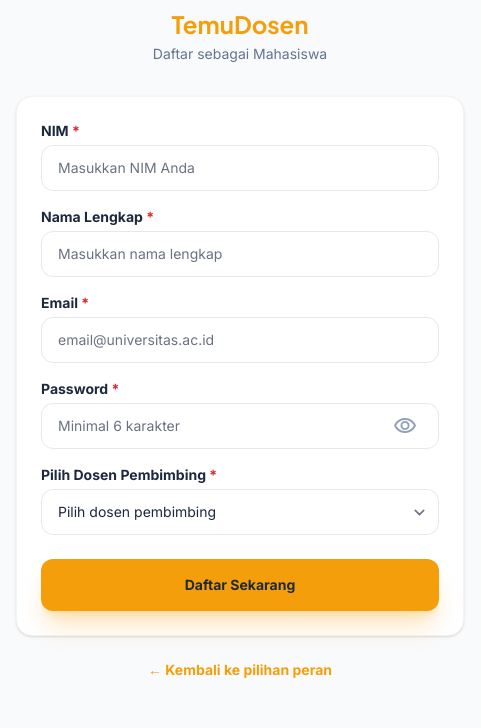
Test case: RegisterStudentPage › shows required-field error when submitting without filling NIM
This screenshot has width=481, height=728.
// Submit without filling any field
Click the button "Daftar Sekarang". click: (240, 585)
box: left=41, top=559, right=439, bottom=611
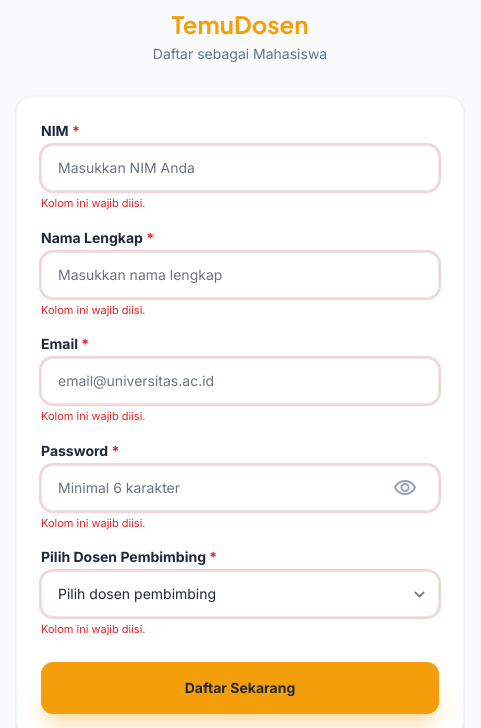
Now the text "Kolom ini wajib diisi." below "NIM" is shown, box left=41, top=196, right=146, bottom=210
